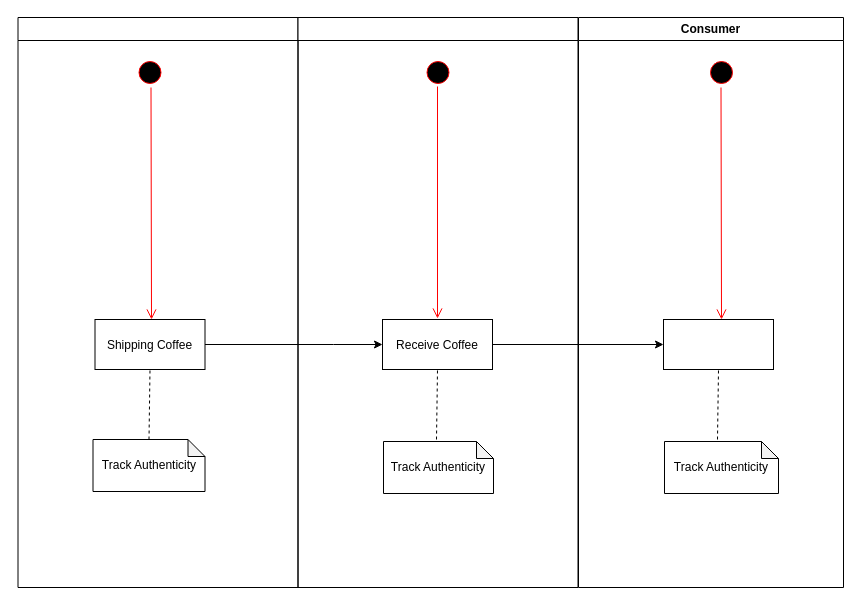
The diagram is 861 pixels wide and 605 high, and some of its shapes have lost their labels. Each missing label, with the box of its shape:
Buy coffee: (662, 318, 774, 370)
Farmer: (17, 16, 298, 588)
Seller: (297, 16, 578, 588)
